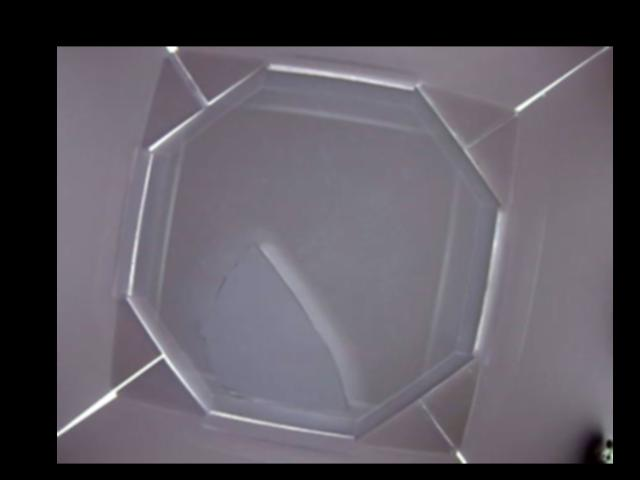China: (204, 241, 352, 419)
